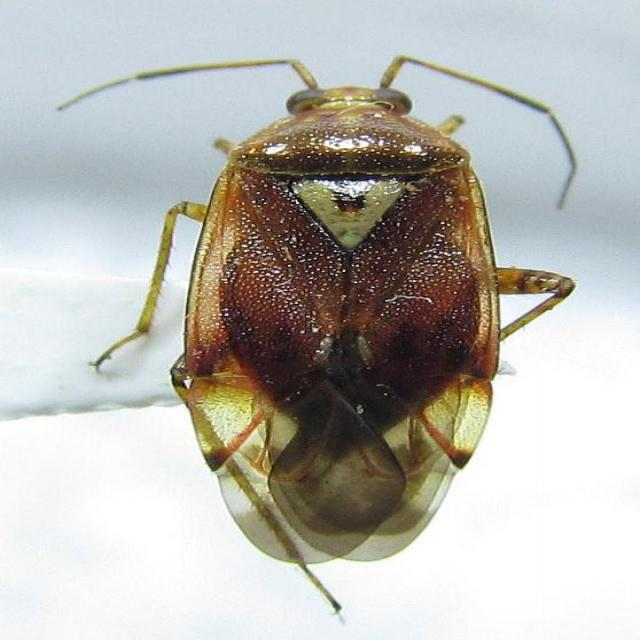Miridae-Adult-: (40, 41, 588, 574)
